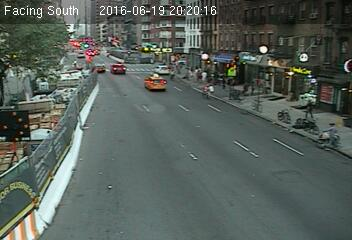neg: (319, 119, 343, 151), (198, 78, 216, 102)
pos: (301, 95, 318, 119), (199, 70, 210, 84), (190, 66, 200, 80)
